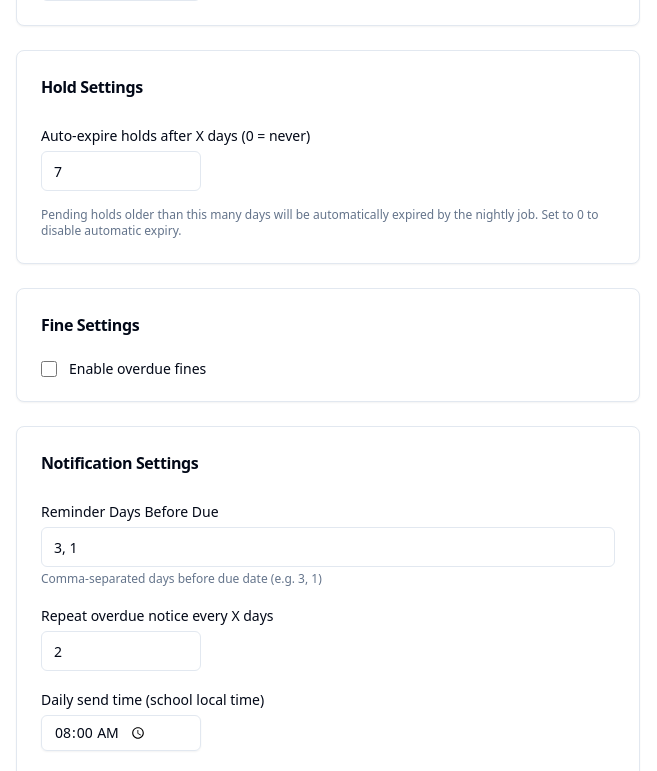
Test: SchoolSettingsPage › shows fine amount field when fines enabled
(page scrolled)
Click the checkbox labelled "Enable overdue fines" at (49, 369), box [41,361,57,377]
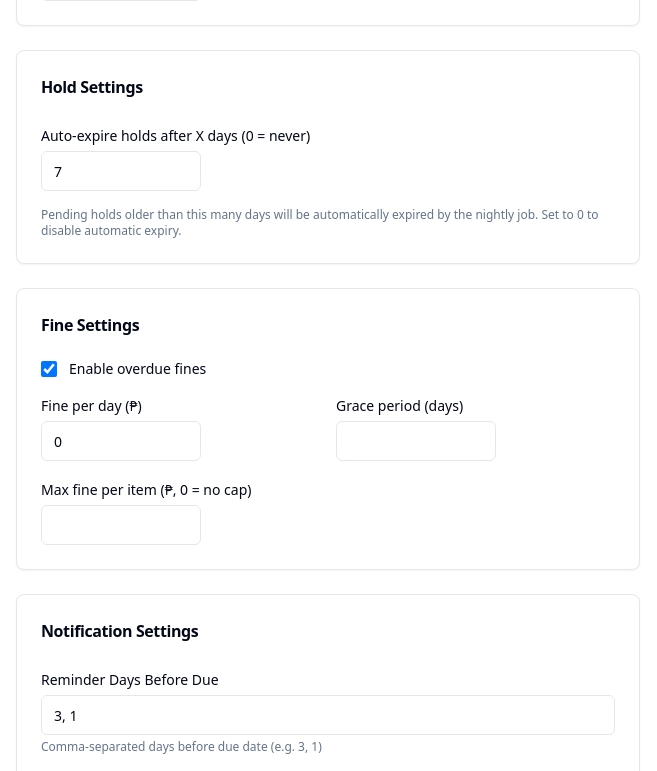
Expected: the number field labelled "Fine per day (₱)" is shown, [41,421,201,461]
